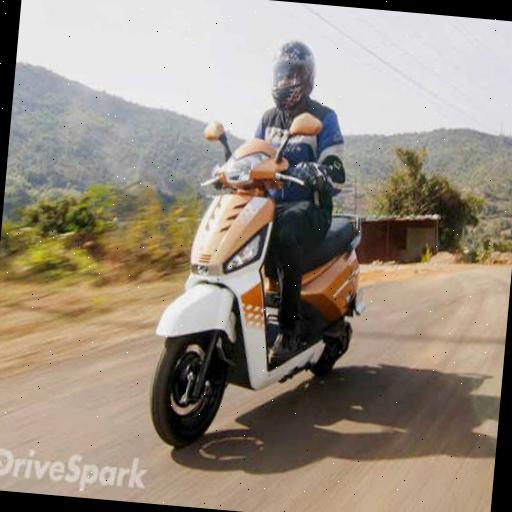helmet: (141, 10, 361, 444)
